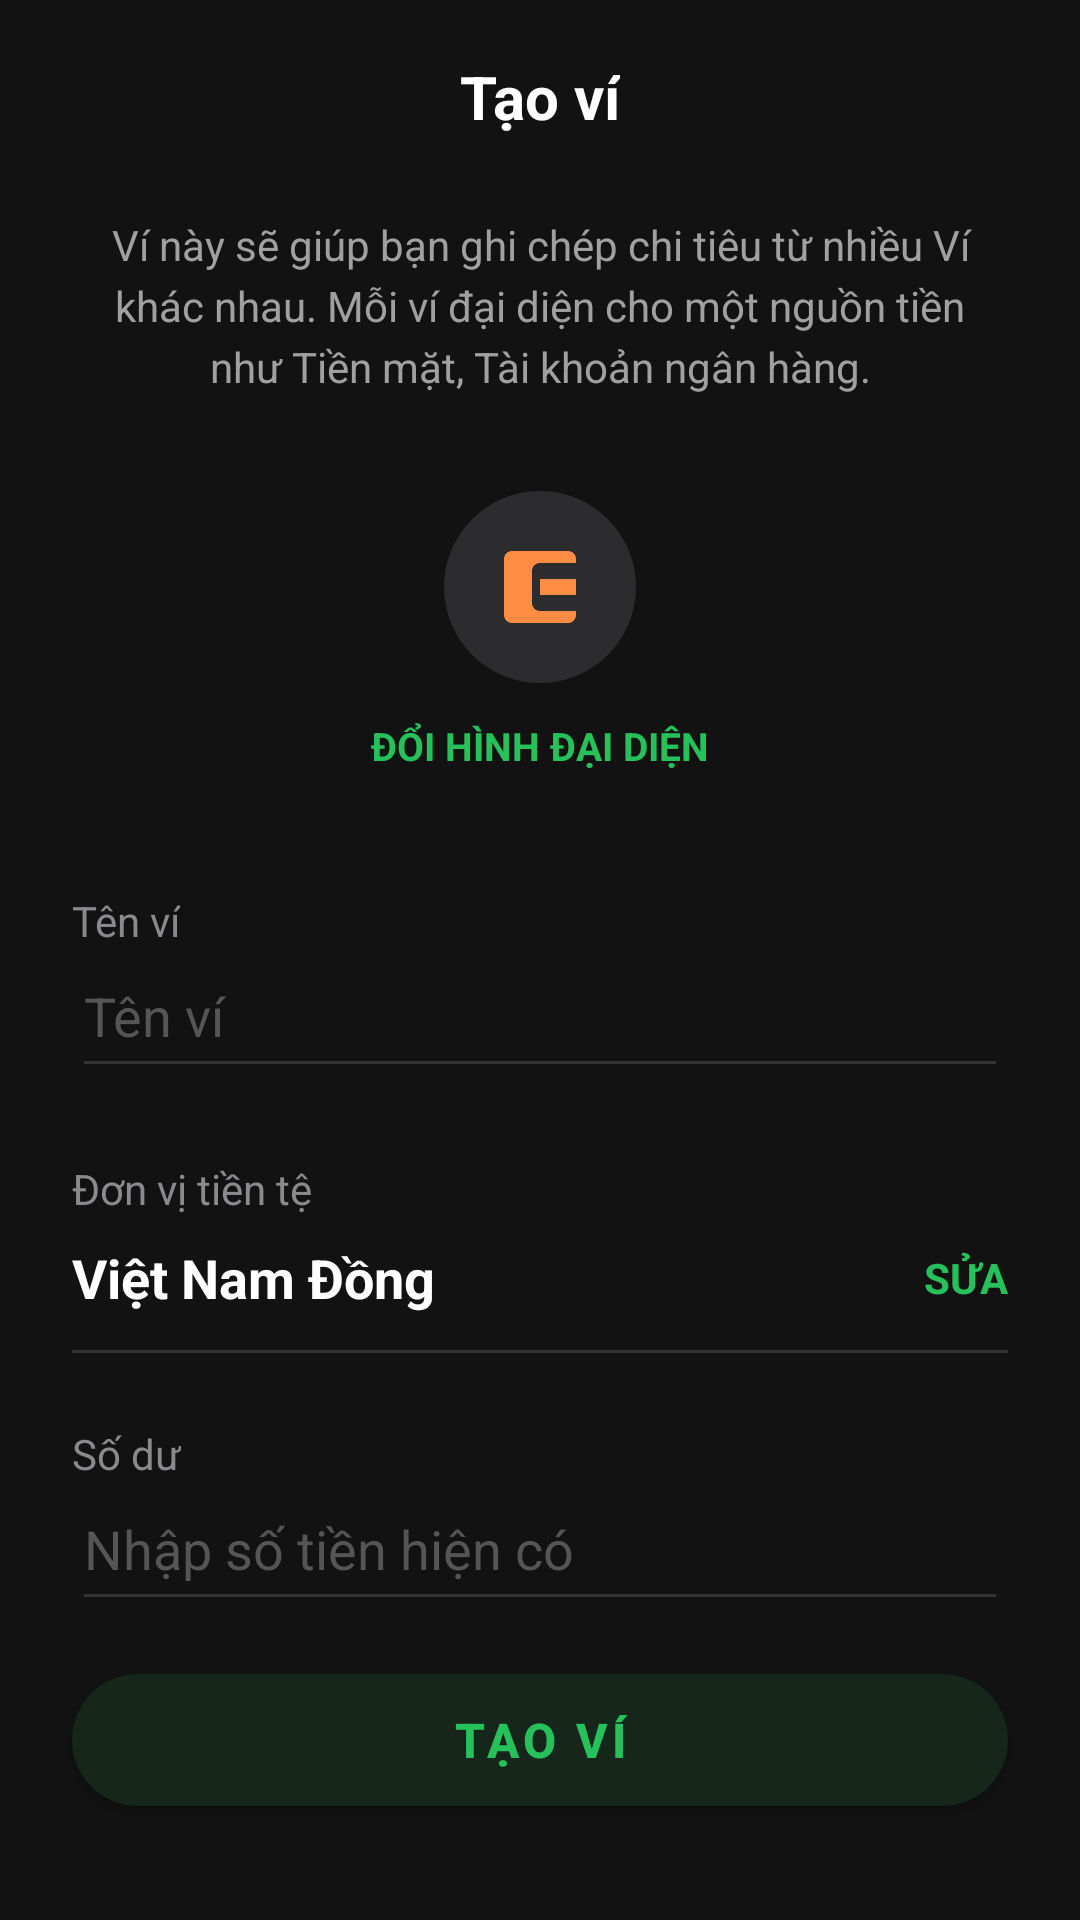

Icons on this 1080x1920 Android screen, each with the point to tap as (x,y):
wallet: (540,587)
